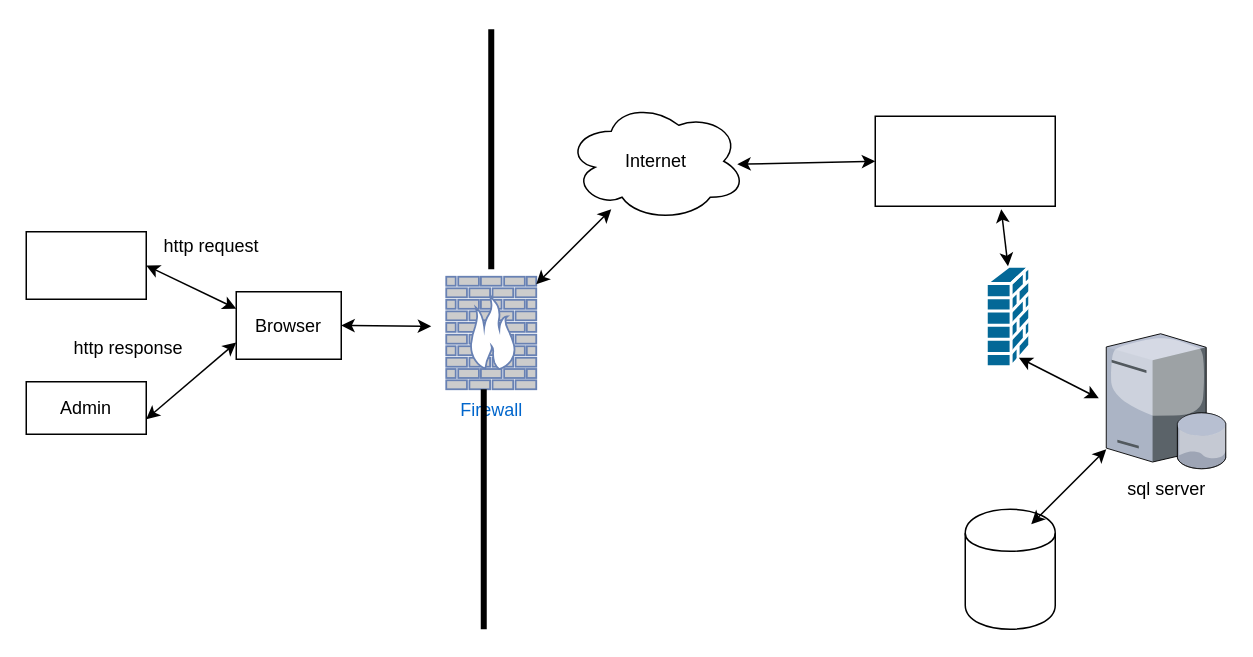
This 1253x657 diagram has some shape labels left out. Each missing label, with the centre of its shape:
Database: (x=1009, y=568)
User: (x=85, y=264)
Web server: (x=964, y=160)
